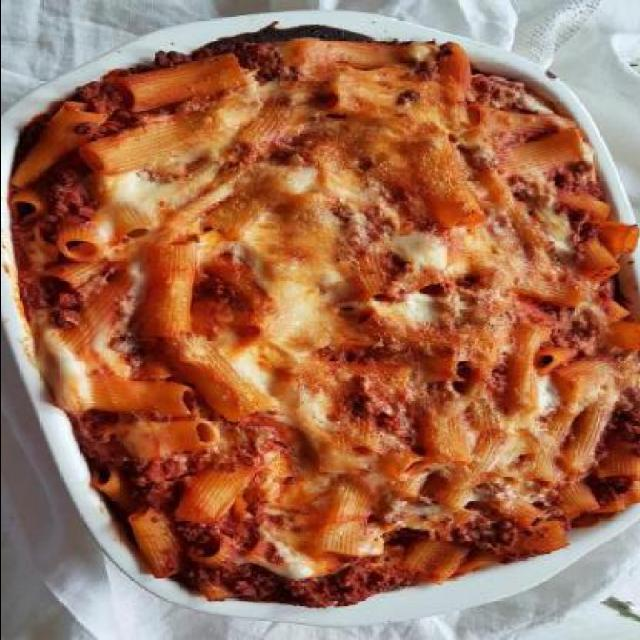Pasta al ragu: (75, 71, 617, 597)
